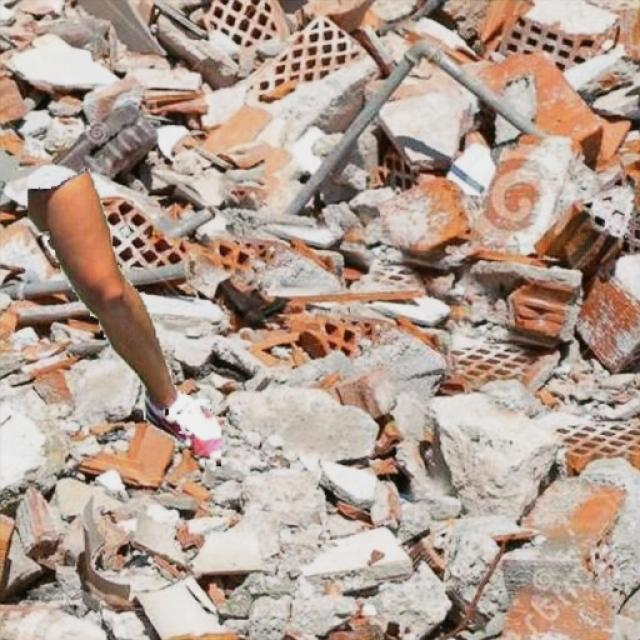Person in Rubble: (28, 169, 220, 465)
